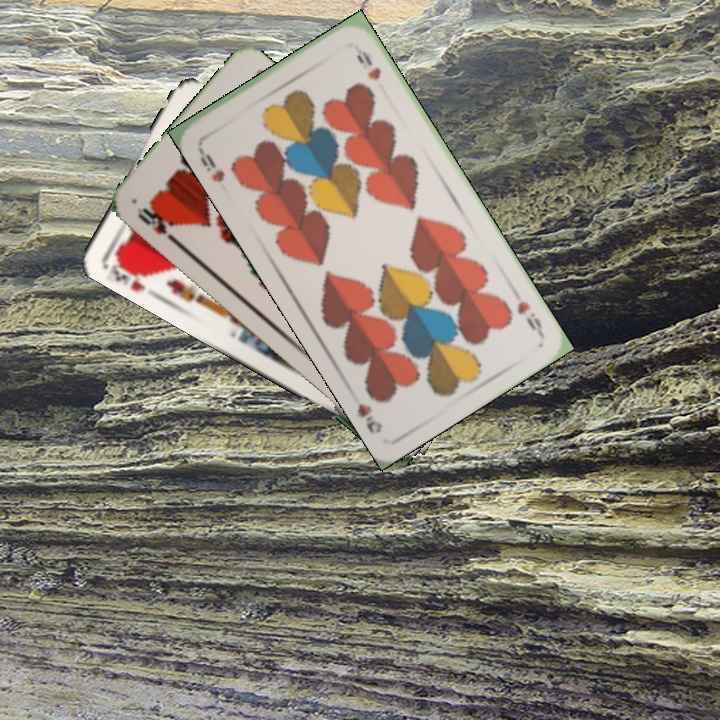H9: (193, 140, 228, 185), (512, 297, 546, 339)
HK: (99, 249, 157, 295)
HO: (133, 204, 181, 247)
